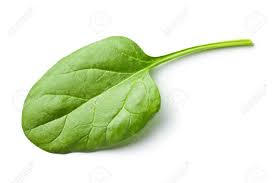spinach: (31, 34, 158, 153), (93, 10, 102, 41)
